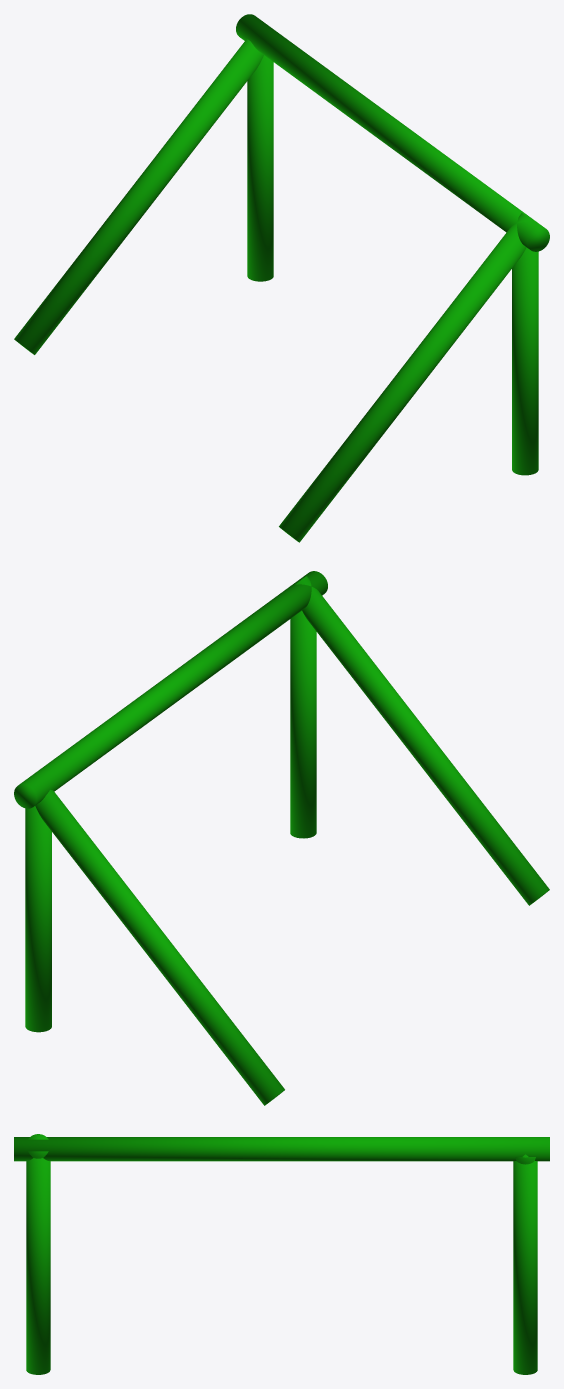
File: Goal2.obj
3 views of the same model, one above another, from view 1: azimuth 30°, elevation 25°; view 2: azimuth 150°, elevation 25°; view 3: azimuth 270°, elevation 25° (orthographic). The views are drawn at different scales.
Visible parts, largest first — view 1: Cylinder.004, Cylinder.003, Cylinder.002, Cylinder, Cylinder.001; view 2: Cylinder.004, Cylinder.003, Cylinder.002, Cylinder, Cylinder.001; view 3: Cylinder.002, Cylinder, Cylinder.001.
Part boxes in pixels (x1,y1,x2,y2): Cylinder.004: (279,213,532,542); Cylinder.003: (14,39,263,354); Cylinder.002: (236,14,549,251); Cylinder: (512,247,538,475); Cylinder.001: (247,39,273,281); Cylinder.004: (295,576,549,905); Cylinder.003: (35,790,284,1105); Cylinder.002: (14,571,327,808); Cylinder: (290,610,316,838); Cylinder.001: (25,790,51,1032); Cylinder.002: (14,1137,549,1161); Cylinder: (26,1158,50,1374); Cylinder.001: (513,1154,537,1374).
Bounding box in the file's own units: 2.26 × 2.32 × 4.4.
